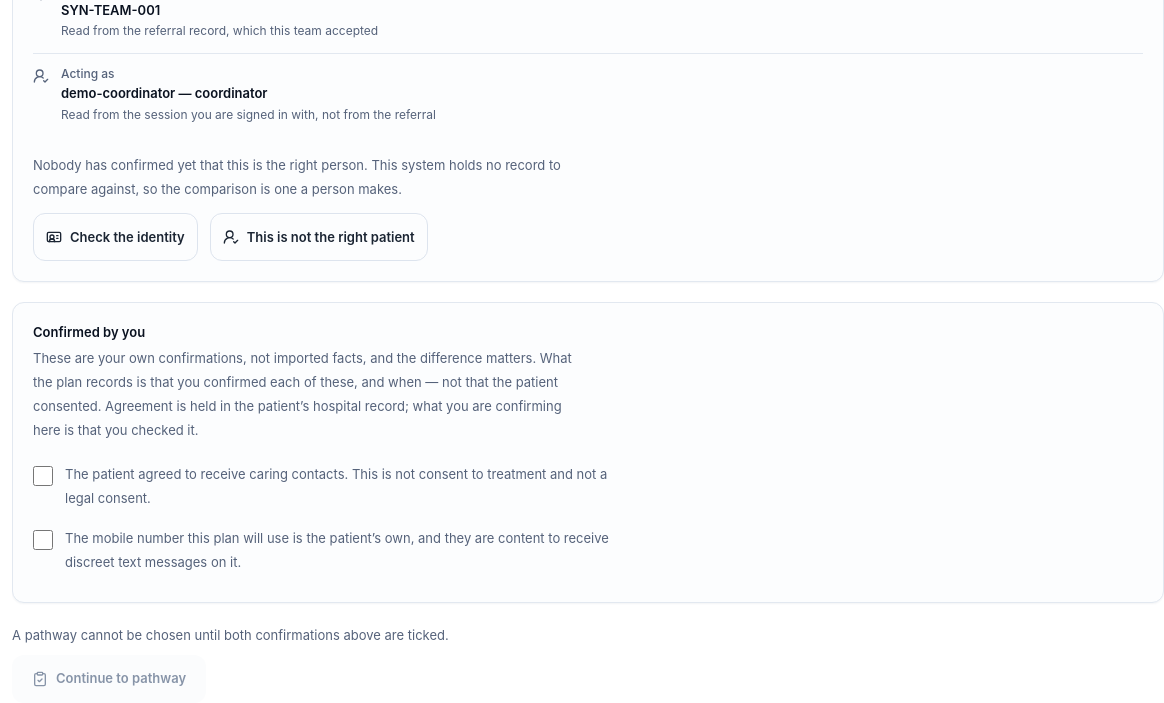
it: the caring-contacts plan wizard — stage 2, pathway (Ruling [113]) › says so when the referral names a pathway that cannot be started on now
The width and height of the screenshot is (1164, 703).
(page scrolled)
Step 1. Click the 1st checkbox → [43, 476], box [33,466,53,486]
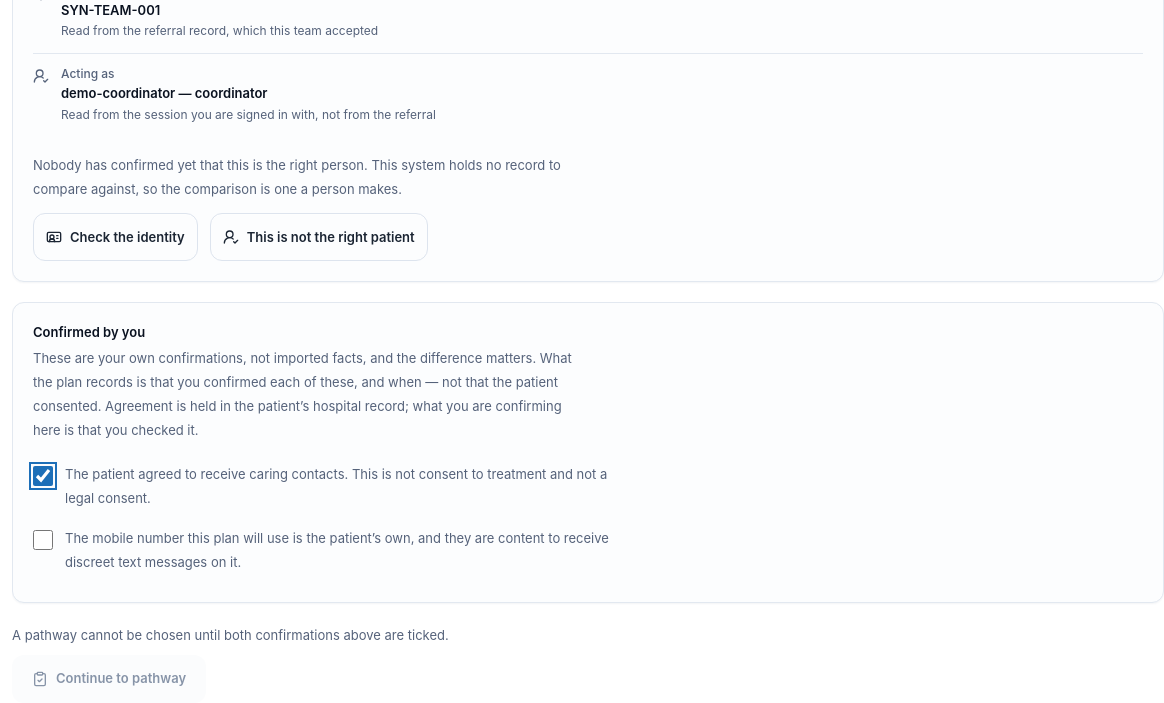
Step 2. Click the 2nd checkbox → [43, 540], box [33,530,53,550]
(page scrolled)
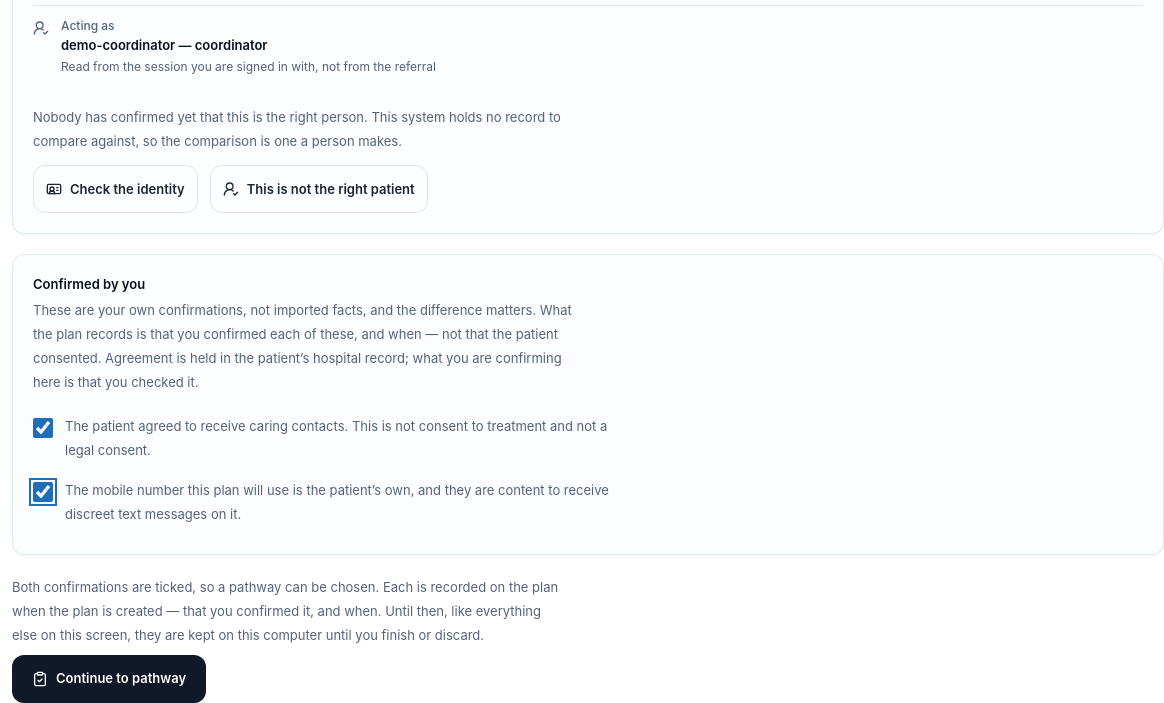
Step 3. Click the button "Continue to pathway" → [109, 678], box [12,654,206,702]
(page scrolled)
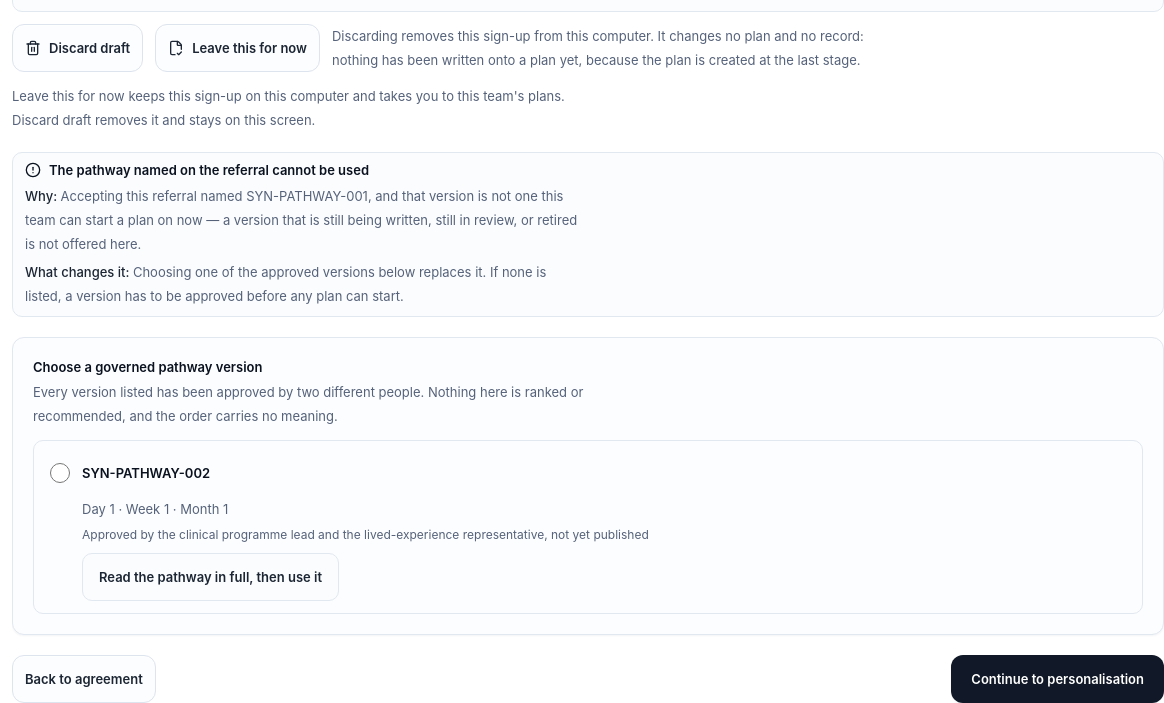
Check: the element "The pathway named on the referral cannot be used" shows "SYN-PATHWAY-001", box [25,188,577,252]
Check: the element "The pathway named on the referral cannot be used" shows "retired", box [25,188,577,252]
